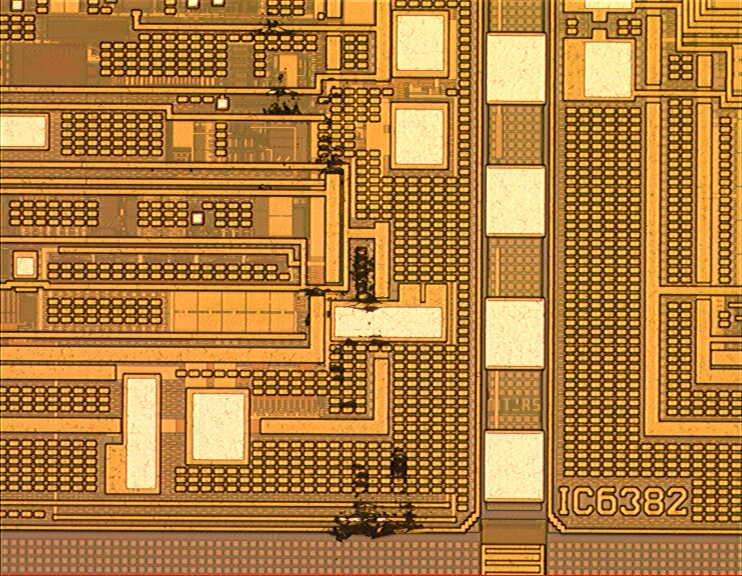SCRATCH: (249, 15, 426, 549)
